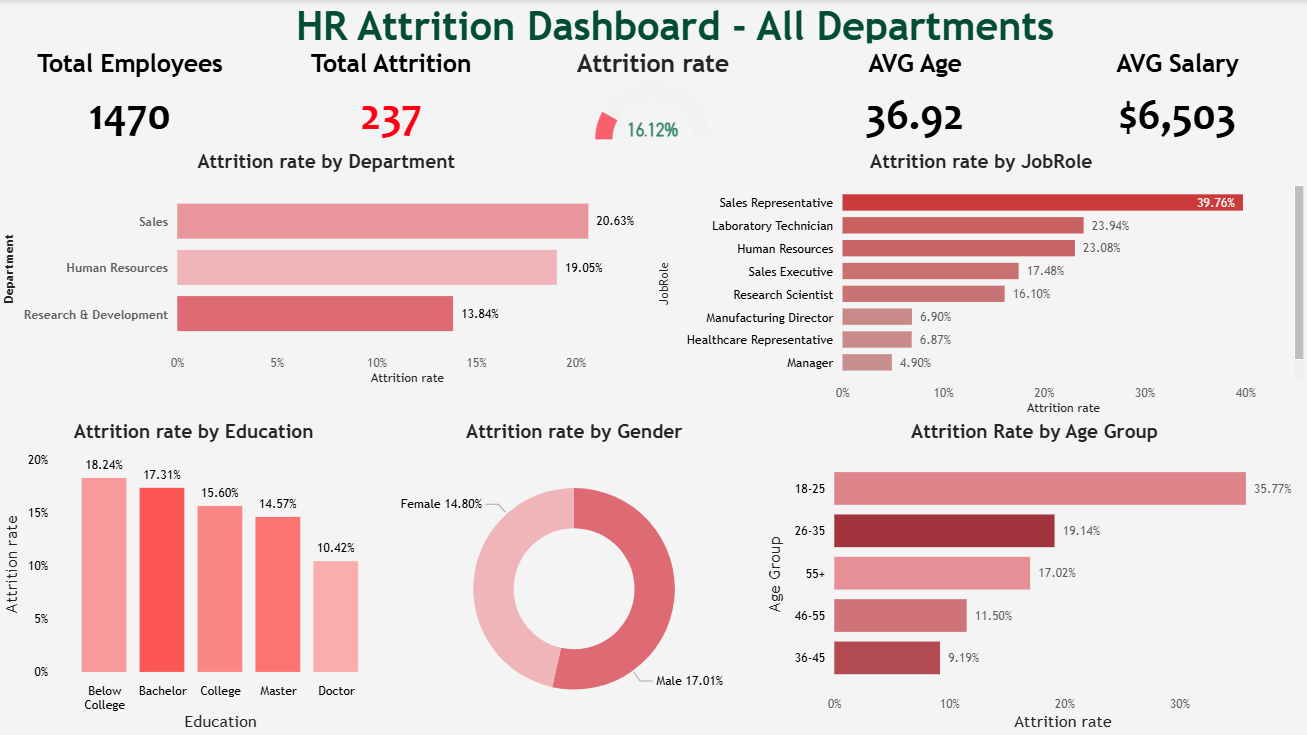

This screenshot's page, from the dashboard's own definition file:
{"tool":"powerbi","page":{"name":"HR Attrition - Dashboard","canvas":[1280,720],"ordinal":0},"visuals":[{"type":"card","title":"Total Employees","fields":{"Values":["Measures..Employees"]},"box":[0,47.3,256.1,94.5],"z":0,"group":"g1"},{"type":"barChart","fields":{"Category":["WA_Fn-UseC_-HR-Employee-Attrition.Department"],"Y":["Measures..Attrition rate"]},"box":[0,146.9,640.2,235],"z":0},{"type":"gauge","fields":{"Y":["Measures..Attrition rate"]},"box":[511.1,47.7,256.8,94.2],"z":1000},{"type":"card","title":"Total Attrition","fields":{"Values":["Measures..Attrition Count"]},"box":[256.1,47.3,256.1,94.5],"z":2000,"group":"g1"},{"type":"barChart","fields":{"Y":["Measures..Attrition rate"],"Category":["WA_Fn-UseC_-HR-Employee-Attrition.JobRole"]},"box":[640.2,146.9,640.2,264.3],"z":2000},{"type":"donutChart","fields":{"Category":["WA_Fn-UseC_-HR-Employee-Attrition.Gender"],"Y":["Measures..Attrition rate"]},"box":[380.8,411.2,365,309],"z":3000},{"type":"clusteredColumnChart","fields":{"Category":["WA_Fn-UseC_-HR-Employee-Attrition.Education"],"Y":["Measures..Attrition rate"]},"box":[0,411.2,380.8,309],"z":4000},{"type":"barChart","title":"Attrition Rate by Age Group","fields":{"Category":["Employee.Age Group"],"Y":["Measures..Attrition rate"]},"box":[746.2,411.2,534.1,309],"z":5000},{"type":"card","fields":{"Values":["Measures..Dashboard Title"]},"box":[107.3,0,1107.8,47.3],"z":6000},{"type":"card","title":"AVG Age","fields":{"Values":["Measures..AVG AGE"]},"box":[768.2,47.3,256.1,94.5],"z":6000,"group":"g1"},{"type":"group","id":"g1","title":"Group 1","box":[0,47.3,1280.3,94.5],"z":7000},{"type":"card","title":"AVG Salary","fields":{"Values":["Measures..AVG Salary"]},"box":[1024.2,47.3,256.1,94.5],"z":8000,"group":"g1"}]}

Visuals, with their boxes in screenshot pixels (x1, y1, x2, y2), scaled from the page's 1280x720 canvas onto the 1307x735 screenshot:
"Total Employees" card: bbox=[0, 48, 262, 145]
barChart - WA_Fn-UseC_-HR-Employee-Attrition.Department x Measures..Attrition rate: bbox=[0, 150, 654, 390]
gauge - Measures..Attrition rate: bbox=[522, 49, 784, 145]
"Total Attrition" card: bbox=[262, 48, 523, 145]
barChart - Measures..Attrition rate x WA_Fn-UseC_-HR-Employee-Attrition.JobRole: bbox=[654, 150, 1306, 420]
donutChart - WA_Fn-UseC_-HR-Employee-Attrition.Gender x Measures..Attrition rate: bbox=[389, 420, 762, 734]
clusteredColumnChart - WA_Fn-UseC_-HR-Employee-Attrition.Education x Measures..Attrition rate: bbox=[0, 420, 389, 734]
"Attrition Rate by Age Group" barChart: bbox=[762, 420, 1306, 734]
card - Measures..Dashboard Title: bbox=[110, 0, 1241, 48]
"AVG Age" card: bbox=[784, 48, 1046, 145]
"Group 1" group: bbox=[0, 48, 1306, 145]
"AVG Salary" card: bbox=[1046, 48, 1306, 145]
